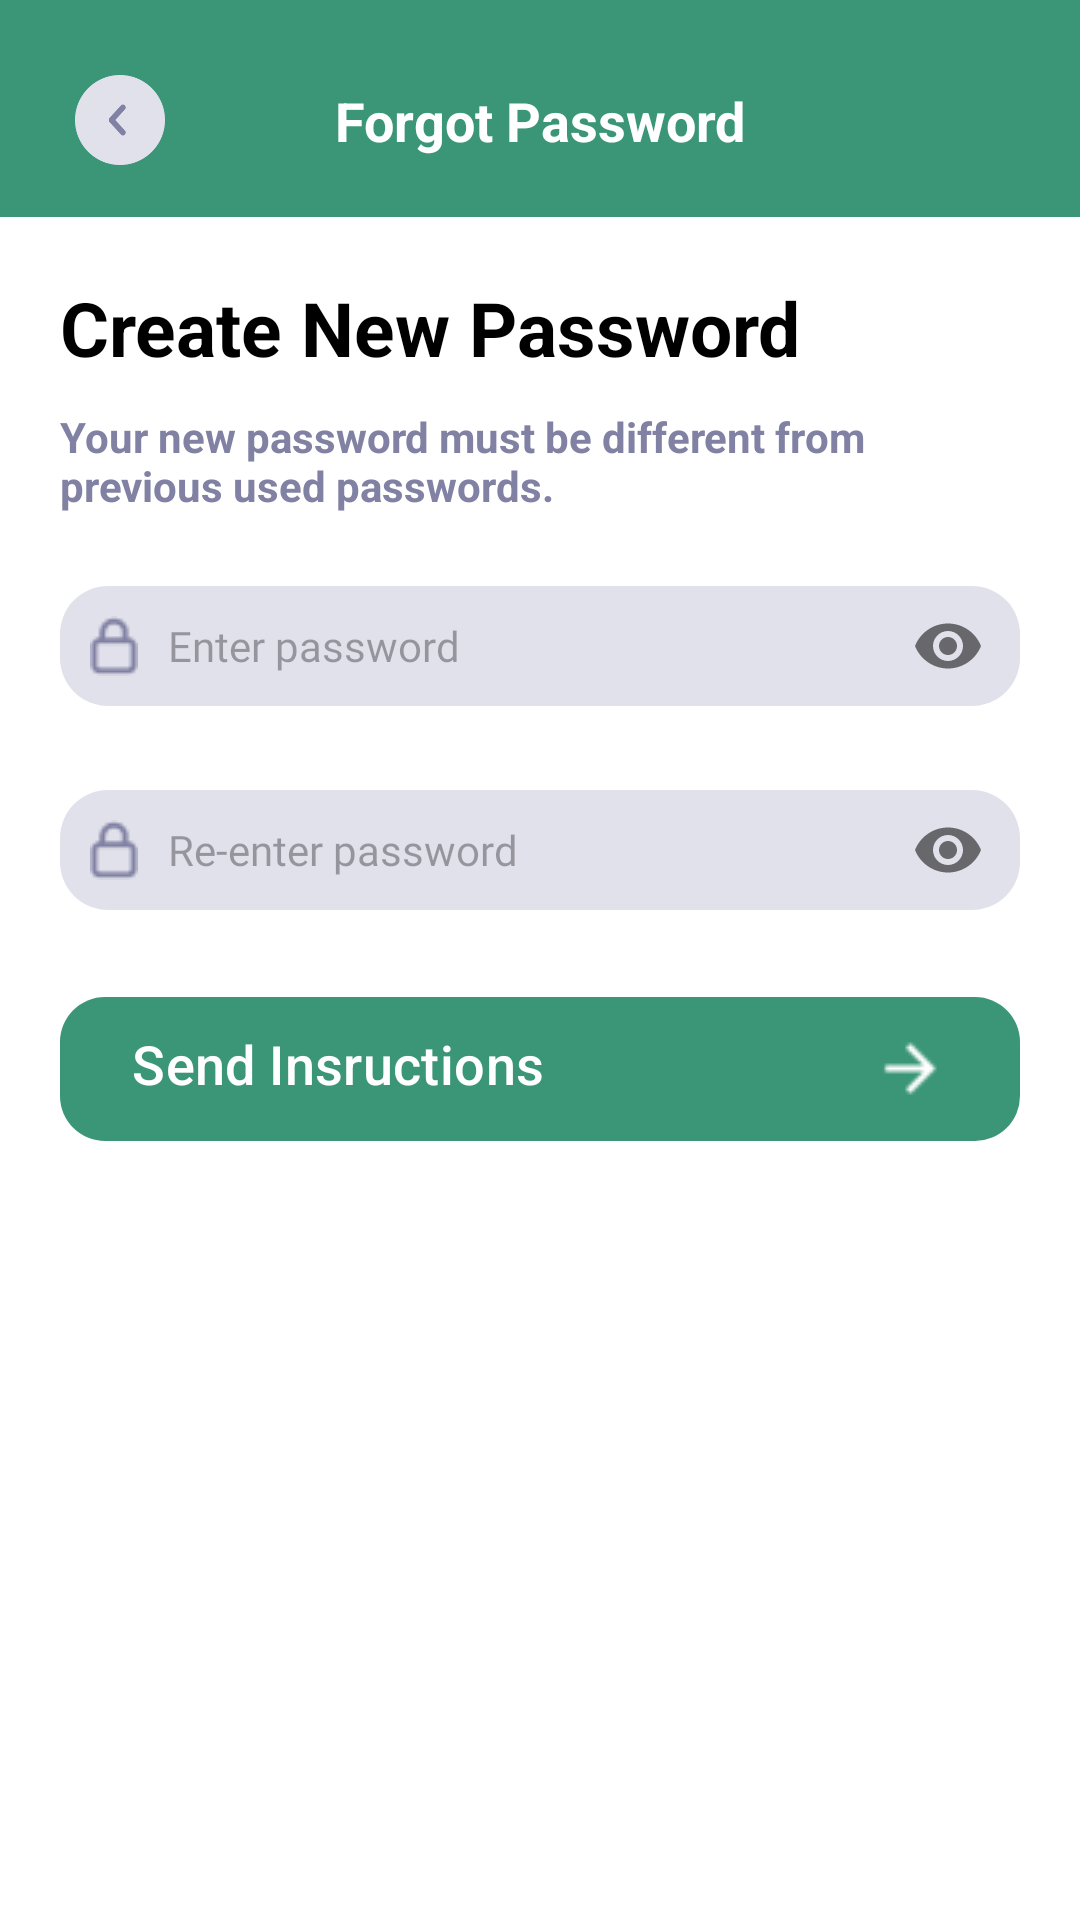

Icon bounding boxes for this 1080 x 1920 phone screenshot, format (x1, y1, x2, y2):
back: (75, 75, 165, 165)
